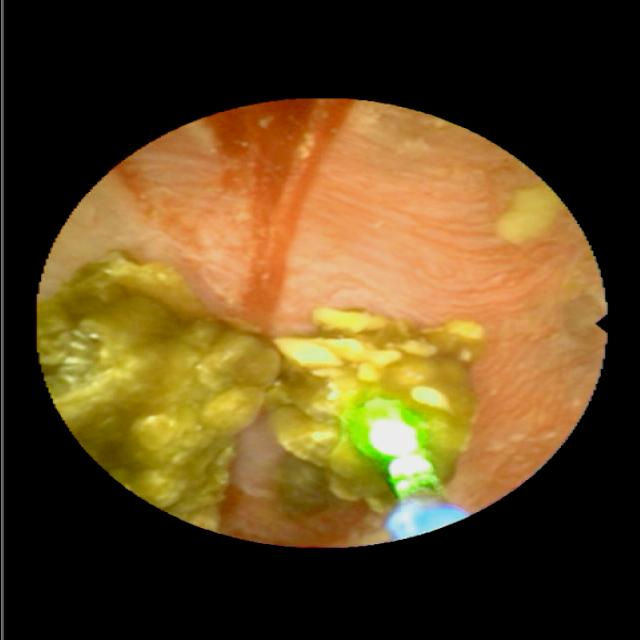fiber: (384, 498, 463, 537)
stone: (41, 252, 488, 525), (497, 185, 558, 242)
tissue: (55, 105, 599, 504)
